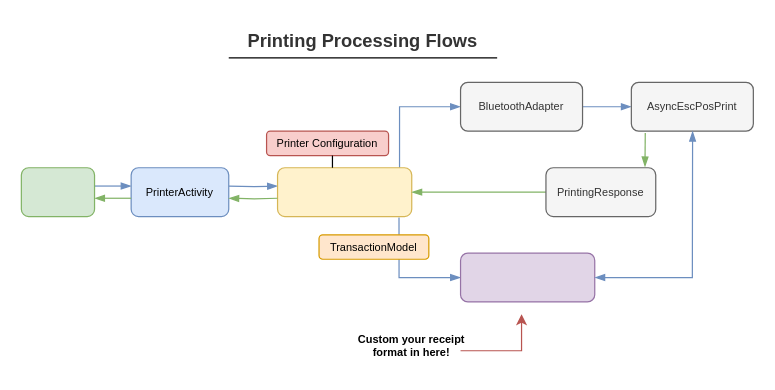
The diagram is 775 pixels wide and 390 high, and some of its shapes have lost their labels. The centre of each missing label's shape, as x and y in pixels:
EscPosReceiptFormat: (527,277)
Layout: (57,192)
PrinterActivityPresenter: (344,192)
